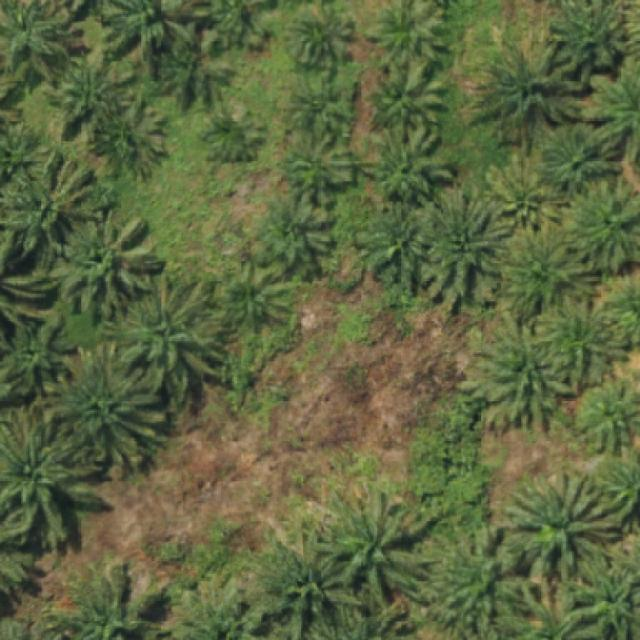Kelapa_Sawit: (44, 342, 165, 478), (312, 486, 438, 611), (108, 274, 229, 404), (466, 29, 586, 149), (503, 468, 622, 582), (458, 324, 573, 436), (49, 207, 165, 318), (419, 524, 538, 631), (414, 192, 512, 313), (257, 531, 361, 640), (1, 149, 104, 253), (531, 294, 631, 394), (503, 229, 600, 320), (358, 119, 453, 204), (152, 18, 234, 114), (44, 46, 134, 132), (90, 85, 167, 180), (366, 51, 446, 140), (264, 188, 334, 278), (356, 201, 426, 290), (485, 153, 569, 227), (539, 121, 623, 194), (0, 317, 78, 394), (277, 127, 352, 207), (364, 0, 448, 68), (280, 67, 355, 142), (220, 260, 291, 334), (200, 96, 268, 162), (287, 7, 356, 68)
